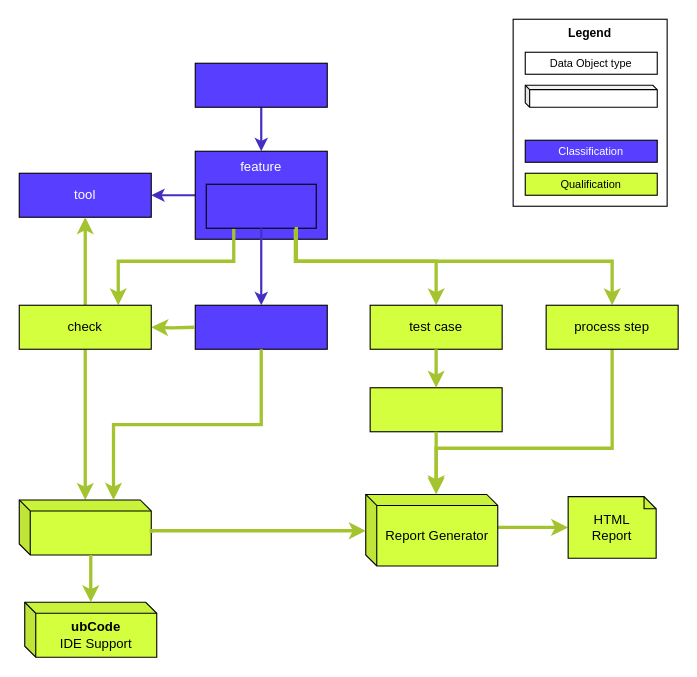
Some shapes in this 697 by 677 pixel diagram are drawn without their labels. Here are the shapes that lost their labels. From the top down, the centre of each, then its label:
At point 260,84: "use case".
At point 590,95: "Script/Tool".
At point 260,205: "fault".
At point 260,326: "restriction".
At point 435,409: "test results".
At point 84,527: "ubc CLI Checker".
